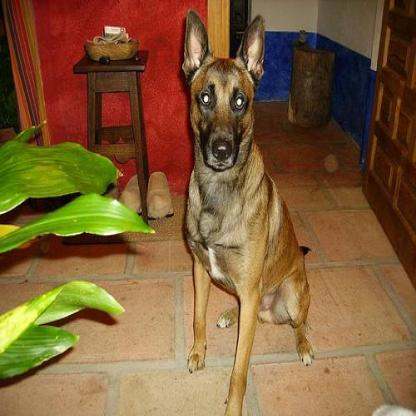malinois: (179, 9, 313, 414)
